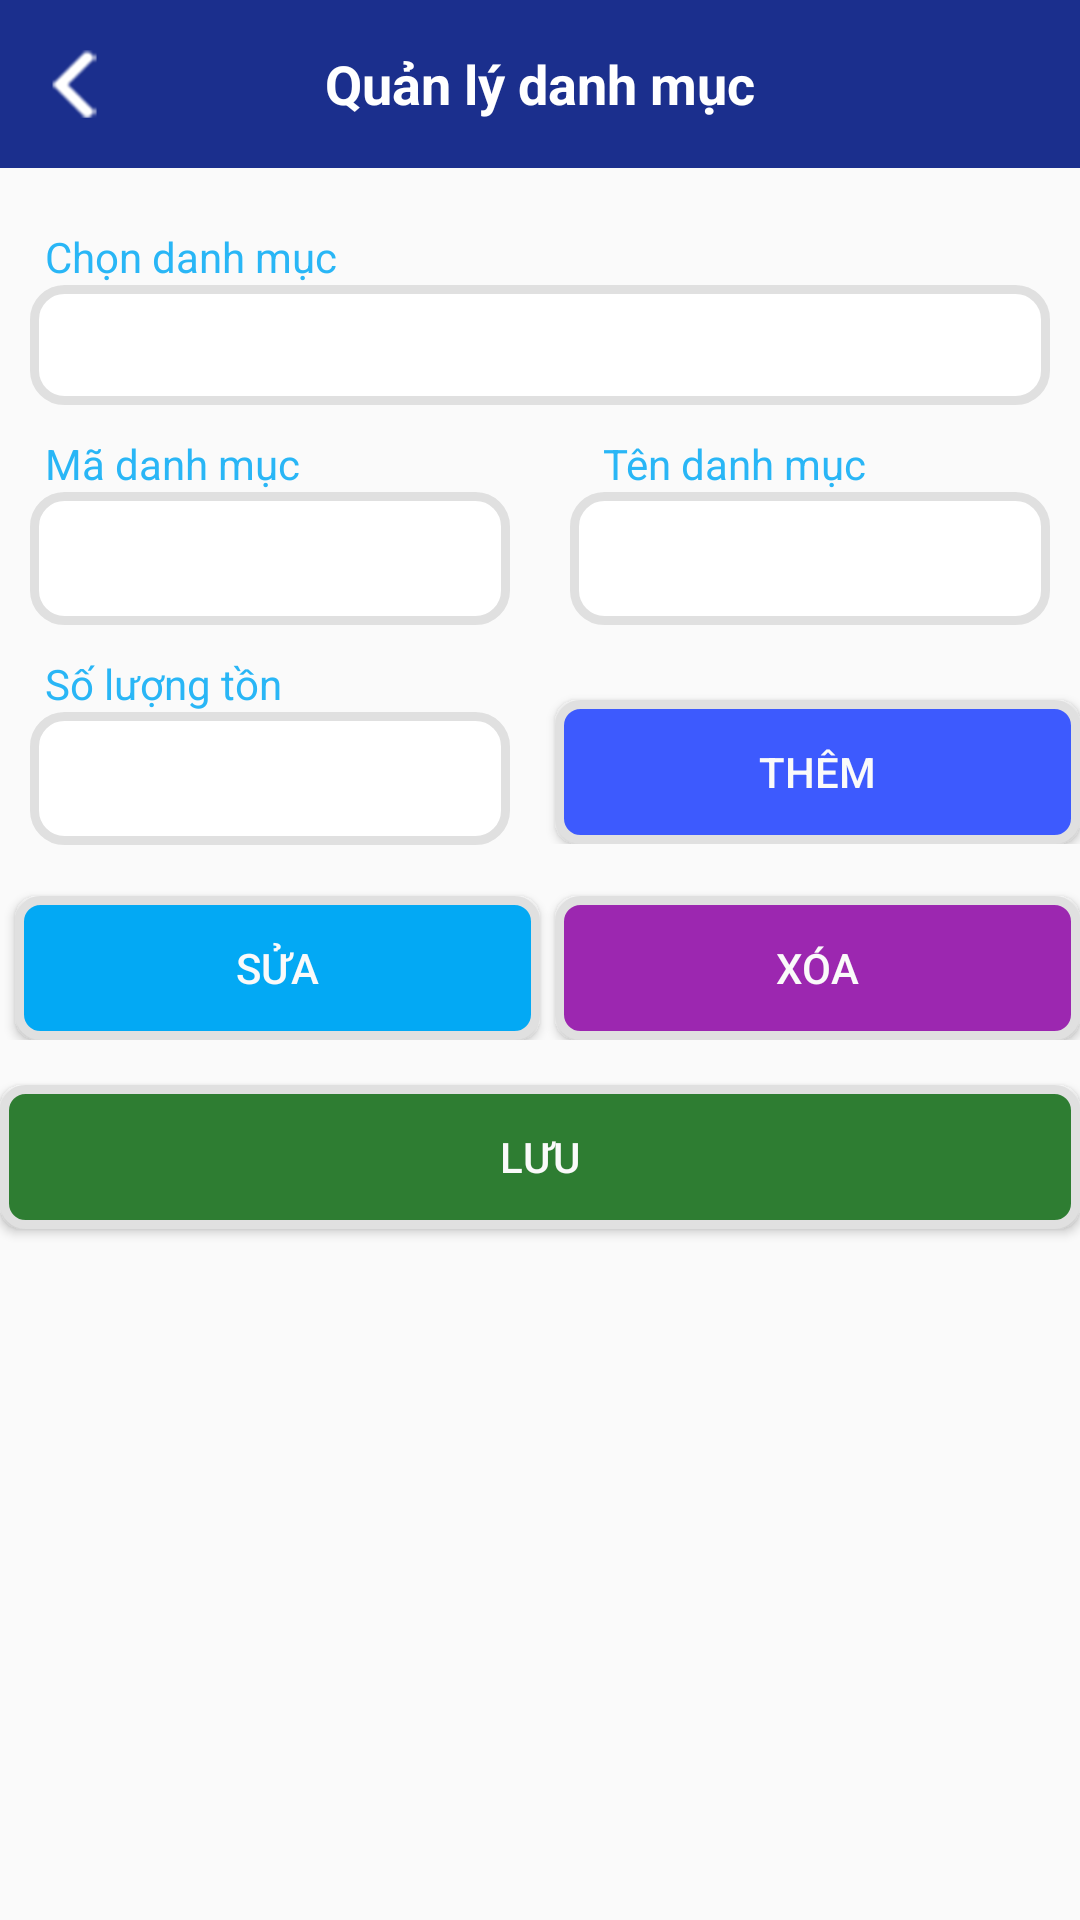

Point at icon controls on the screen. Image size 1080 × 1920, points as point (x, y).
arrow left: point (74, 84)
